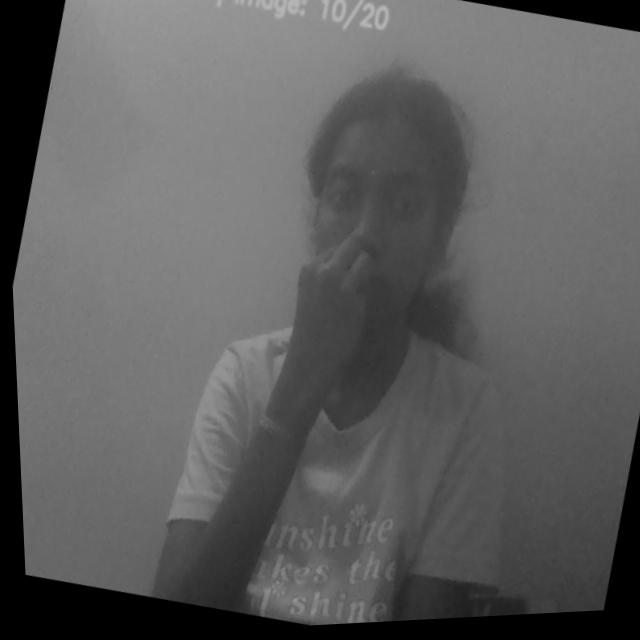Food: (262, 223, 393, 417)
